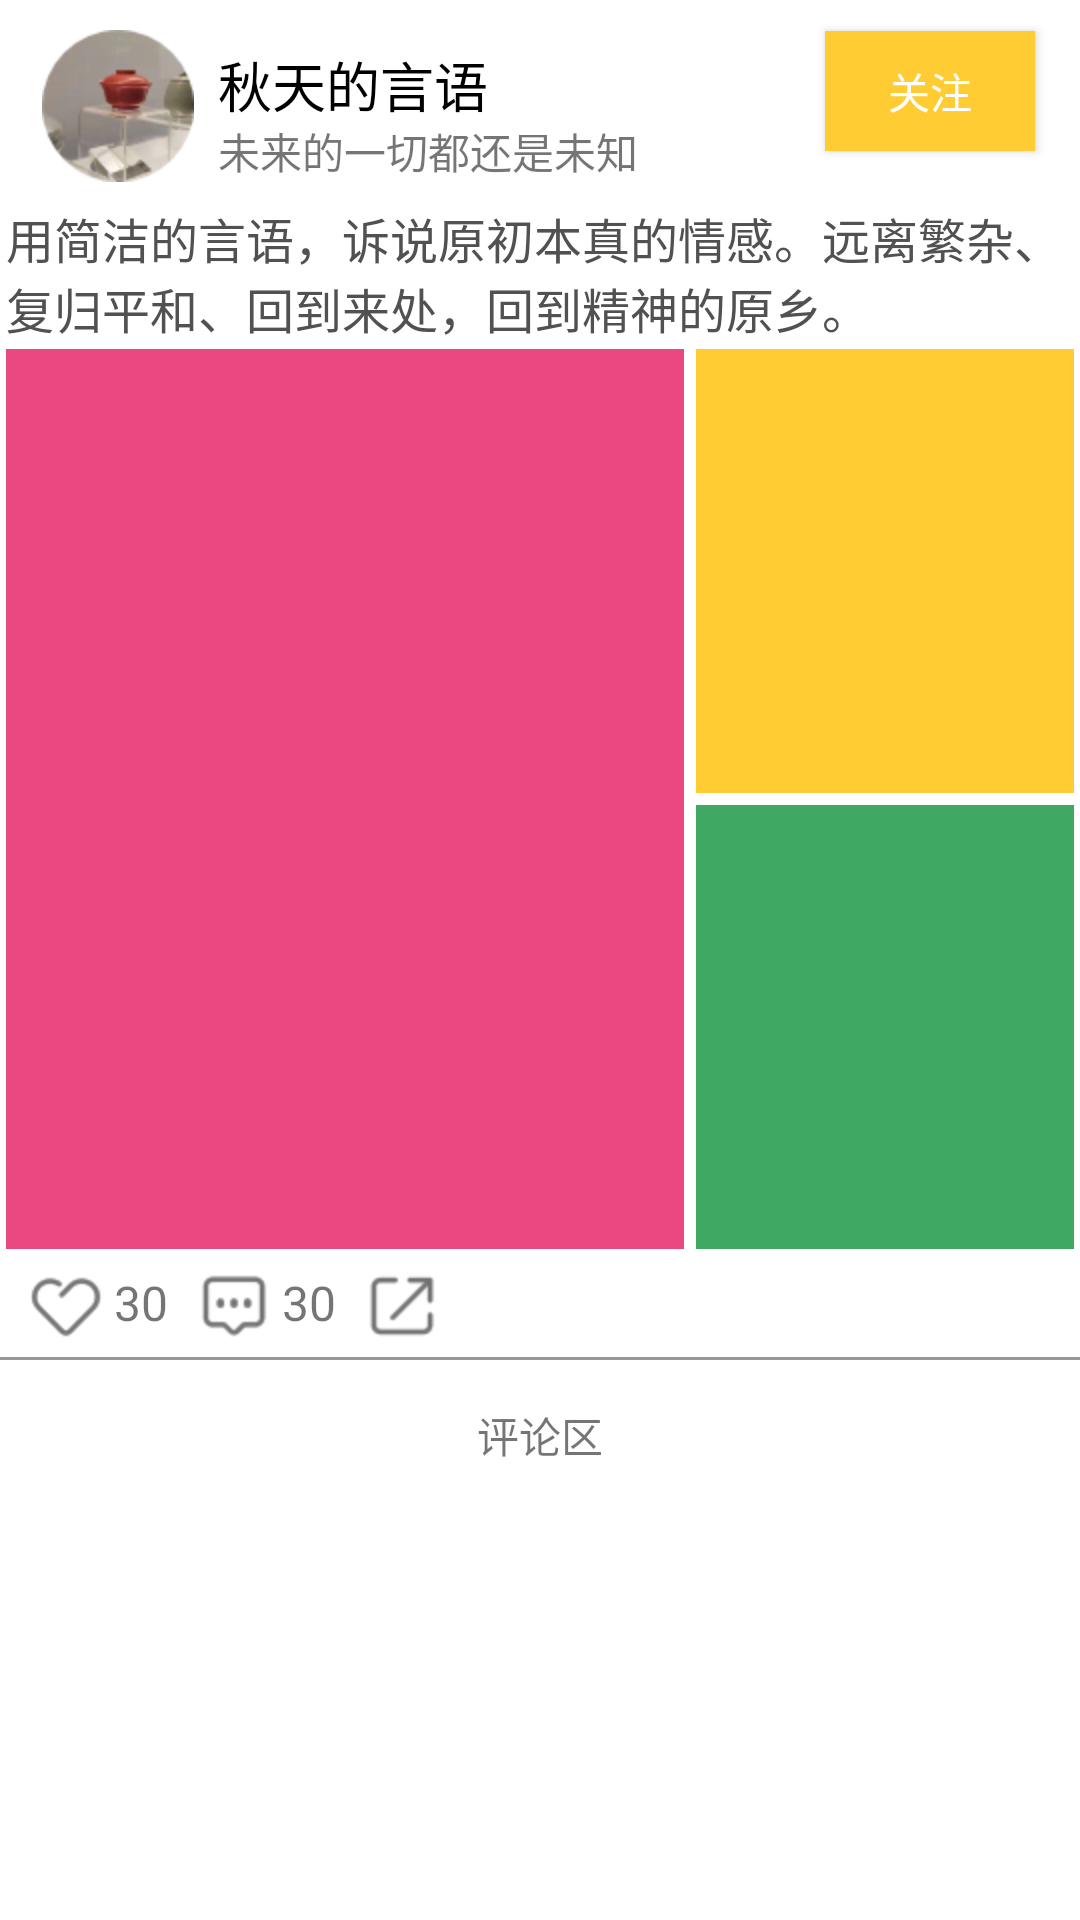

Locate icon controls on the screen. Image size 1080px x 1920px, boxes as (x1, y1, x2, y2).
share: (370, 1277, 434, 1336)
